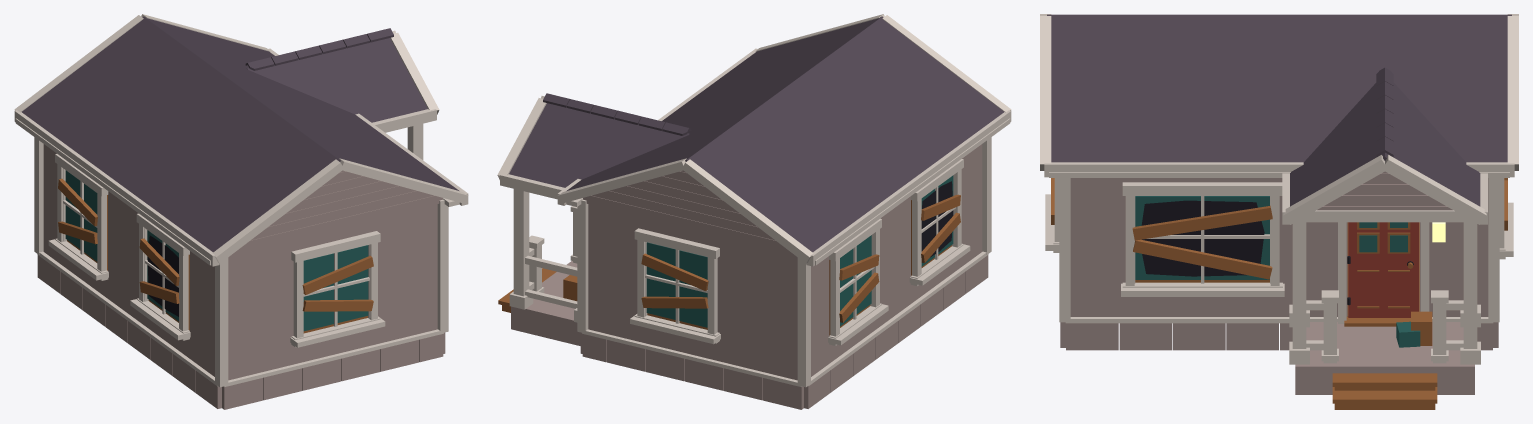
3 renders of one model, left to right at view 1: azimuth 30°, elevation 25°; view 2: azimuth 150°, elevation 25°; view 3: azimuth 270°, elevation 25°, orthographic. The views are drawn at different scales.
Parts seen in each view (by area): view 1: roof_pal_picketWhite, body_pal_picketWhite, root_pal_picketWhite; view 2: roof_pal_picketWhite, body_pal_picketWhite, root_pal_picketWhite; view 3: roof_pal_picketWhite, body_pal_picketWhite, root_pal_picketWhite, door_front_pal_picketWhite.
Boxes of the visible parts, bbox=[...] form: roof_pal_picketWhite: bbox=[14, 14, 468, 266]; body_pal_picketWhite: bbox=[34, 123, 448, 409]; root_pal_picketWhite: bbox=[48, 154, 385, 347]; roof_pal_picketWhite: bbox=[497, 14, 1011, 266]; body_pal_picketWhite: bbox=[498, 137, 991, 409]; root_pal_picketWhite: bbox=[563, 159, 970, 345]; roof_pal_picketWhite: bbox=[1040, 14, 1518, 224]; body_pal_picketWhite: bbox=[1059, 178, 1499, 409]; root_pal_picketWhite: bbox=[1045, 178, 1513, 347]; door_front_pal_picketWhite: bbox=[1347, 222, 1418, 317].
Bounding box in the file's own units: 7.14 × 4.45 × 7.17.
